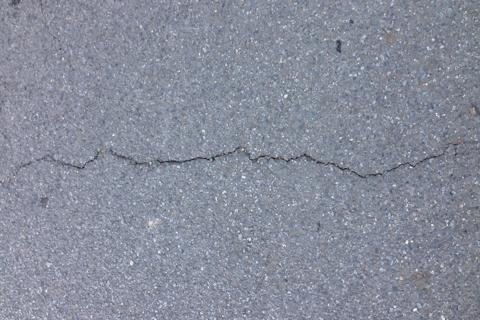crack: (4, 144, 480, 181)
